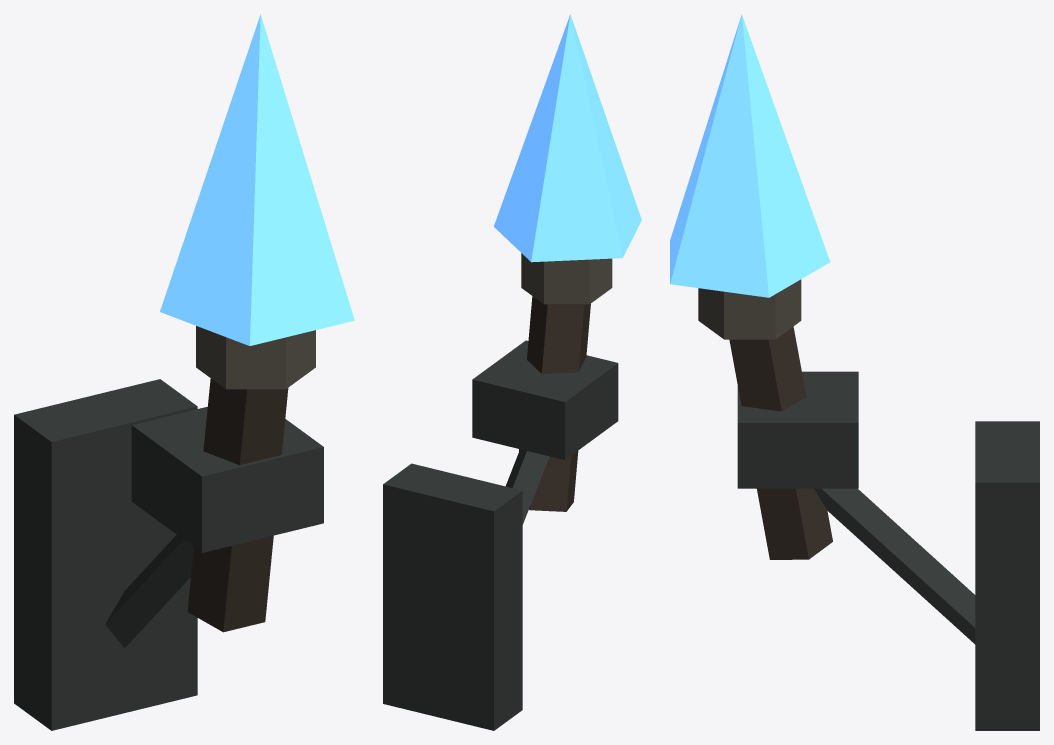
The model's file is torch_blue.glb.
The picture shows the model from 3 angles, left to right: view 1: azimuth 30°, elevation 25°; view 2: azimuth 150°, elevation 25°; view 3: azimuth 270°, elevation 25°; orthographic projection. The views are drawn at different scales.
Parts seen in each view (by area): view 1: sconce plate, blue flame, sconce cup, torch shaft, pitch wrap, sconce arm; view 2: sconce plate, blue flame, sconce cup, torch shaft, pitch wrap, sconce arm; view 3: blue flame, sconce plate, sconce cup, torch shaft, sconce arm, pitch wrap.
Boxes of the visible parts, x1,y1,x2,y2 form: sconce plate: (14,379,197,730); blue flame: (160,14,354,345); sconce cup: (131,406,323,552); torch shaft: (187,378,288,632); pitch wrap: (196,326,315,389); sconce arm: (105,535,193,648); sconce plate: (383,463,522,730); blue flame: (494,14,641,262); sconce cup: (472,340,618,459); torch shaft: (519,296,590,511); pitch wrap: (521,253,612,304); sconce arm: (505,449,549,524); blue flame: (670,14,829,297); sconce plate: (975,421,1039,730); sconce cup: (737,371,858,488); torch shaft: (729,326,832,559); sconce arm: (814,488,975,644); pitch wrap: (698,279,801,339).
Size of the model in its own units: 0.1046 by 0.47 by 0.2295.
